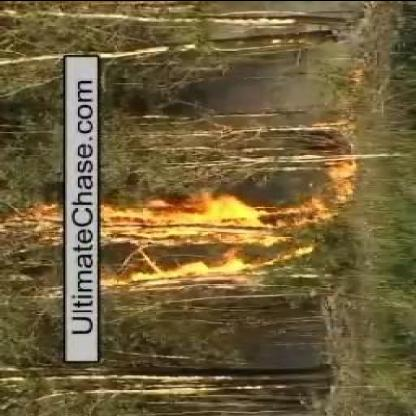-: (214, 85, 298, 125), (256, 174, 306, 202)
foggia-v2-map80-epoch100 - v1 4323: (100, 192, 332, 290), (3, 199, 57, 254)
